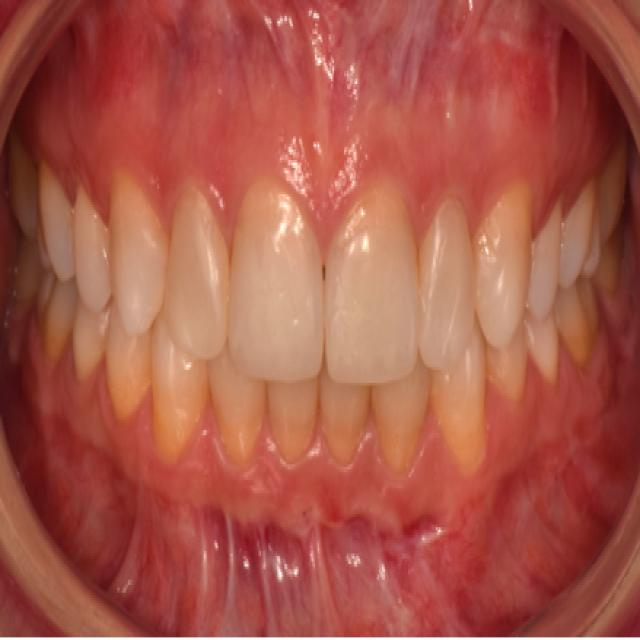tooth: (318, 178, 420, 388), (238, 165, 320, 388), (154, 197, 230, 375), (411, 197, 475, 359), (102, 197, 166, 336), (478, 202, 528, 328), (432, 354, 492, 459), (159, 307, 198, 456), (210, 362, 261, 472), (264, 372, 309, 488), (74, 186, 111, 304), (40, 168, 78, 278), (536, 191, 568, 307), (378, 388, 427, 459), (115, 341, 156, 422), (490, 352, 535, 414), (322, 386, 356, 440)
